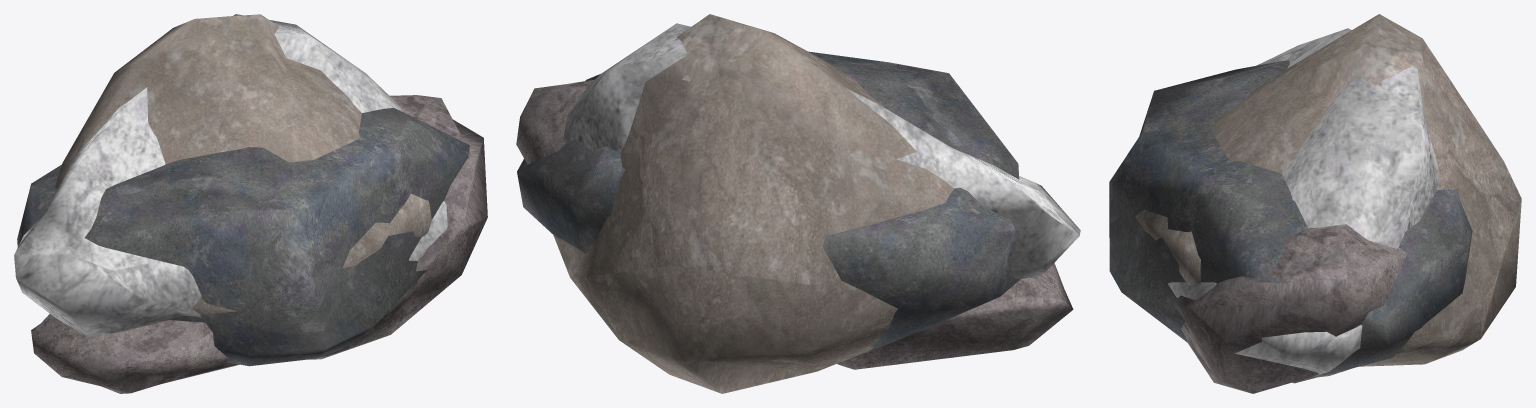
The model's file is PedrasGrandes.fbx.
3 views of the same model, side by side, from view 1: azimuth 30°, elevation 25°; view 2: azimuth 150°, elevation 25°; view 3: azimuth 270°, elevation 25° (orthographic). The views are drawn at different scales.
Parts seen in each view (by area): view 1: PedrasGrandes03, PedrasGrandes01, PedrasGrandes02, PedrasGrandes04; view 2: PedrasGrandes01, PedrasGrandes03, PedrasGrandes02, PedrasGrandes04; view 3: PedrasGrandes03, PedrasGrandes01, PedrasGrandes02, PedrasGrandes04.
Part boxes in pixels (x1,y1,x2,y2): PedrasGrandes03: (17,107,469,366); PedrasGrandes01: (54,14,431,316); PedrasGrandes02: (14,14,447,336); PedrasGrandes04: (31,95,487,393); PedrasGrandes01: (553,14,953,393); PedrasGrandes03: (517,51,1019,348); PedrasGrandes02: (563,23,1080,279); PedrasGrandes04: (516,79,1073,369); PedrasGrandes03: (1109,60,1472,383); PedrasGrandes01: (1135,14,1521,378); PedrasGrandes02: (1168,28,1438,375); PedrasGrandes04: (1173,224,1407,393).
Size of the model in its own units: 248 by 149 by 173.
1 material, 1 textured.
